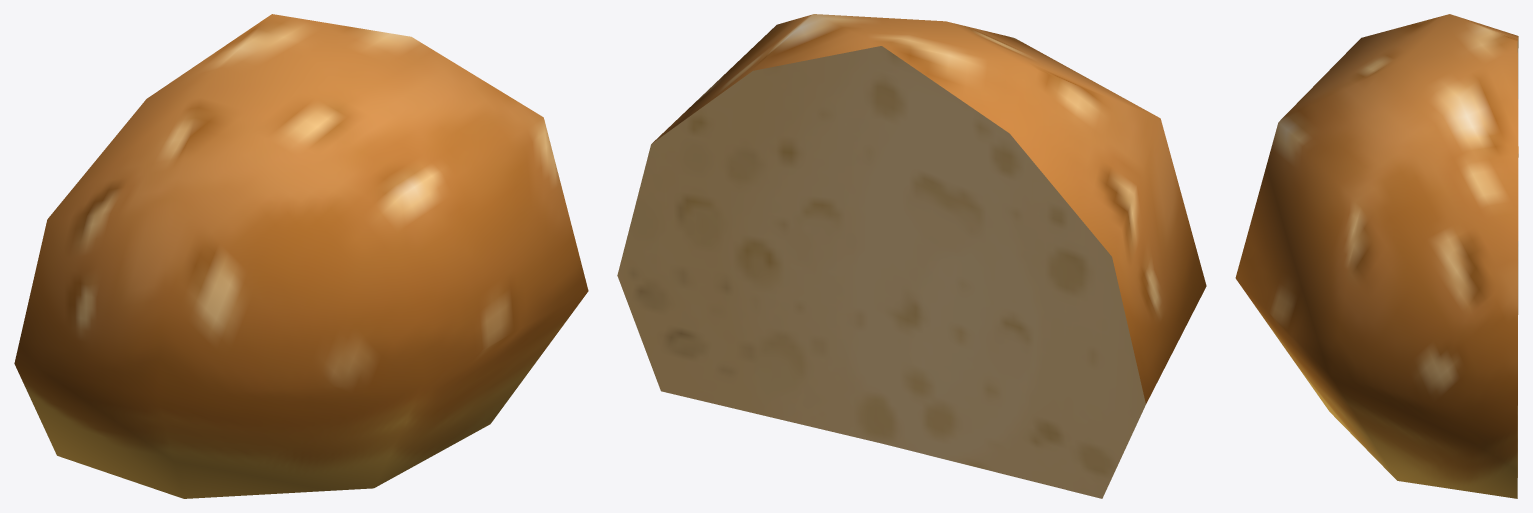
The model's file is SM_PROP_food_bread_03.FBX.
3 renders of one model, left to right at view 1: azimuth 30°, elevation 25°; view 2: azimuth 150°, elevation 25°; view 3: azimuth 270°, elevation 25°, orthographic. The views are drawn at different scales.
Visible parts, largest first — view 1: SM_PROP_food_bread_03; view 2: SM_PROP_food_bread_03; view 3: SM_PROP_food_bread_03.
Boxes of the visible parts, <box> form: SM_PROP_food_bread_03: <box>14,14,588,498</box>; SM_PROP_food_bread_03: <box>617,14,1206,498</box>; SM_PROP_food_bread_03: <box>1235,14,1518,498</box>.
Size of the model in its own units: 13.03 by 6.7 by 9.66.
